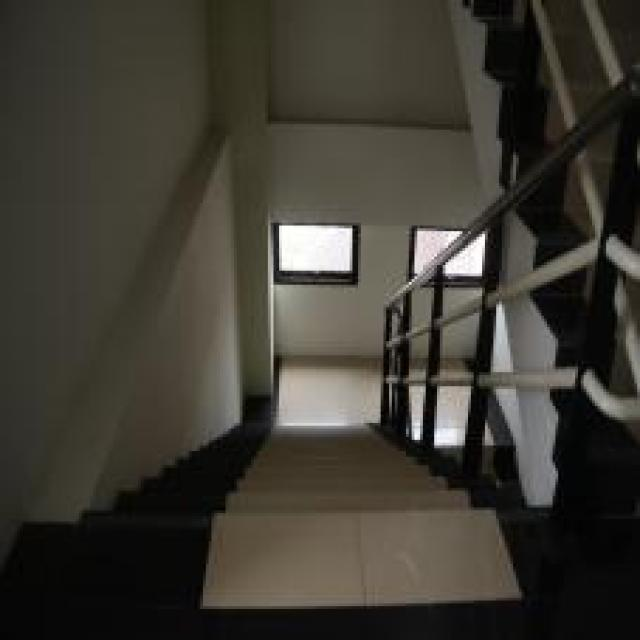downstair: (230, 433, 447, 588)
